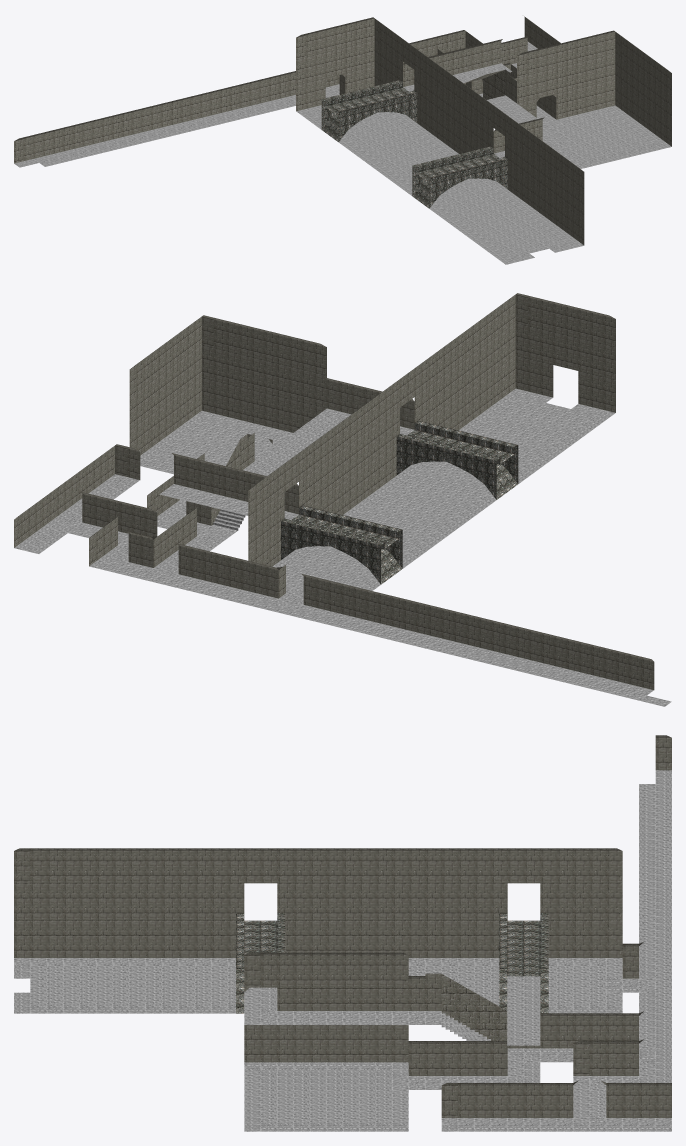
File: dungeon.glb
3 views of the same model, one above another, from view 1: azimuth 30°, elevation 25°; view 2: azimuth 150°, elevation 25°; view 3: azimuth 270°, elevation 25° (orthographic). The views are drawn at different scales.
Visible parts, largest first — view 1: Object.325-col.085, Object.325-col.338, Object.478, Object.269-col, Object.358-col.001, Object.358-col; view 2: Object.325-col.338, Object.325-col.085, Object.478, Object.278-col, Object.278-col.001, Object.367-col, Object.367-col.001, Object.082-col, Object.413-col.001, Object.413-col; view 3: Object.325-col.085, Object.478, Object.325-col.338, Object.262-col, Object.277-col.007, Object.277-col.028, Object.277-col.039, Object.232-col, Object.237-col, Object.240-col, Object.242-col, Object.263-col (+130 smaller).
Boxes of the visible parts, x1,y1,x2,y2 form: Object.325-col.085: (321, 80, 417, 142); Object.325-col.338: (412, 146, 507, 208); Object.478: (464, 69, 505, 99); Object.269-col: (605, 80, 620, 111); Object.358-col.001: (365, 41, 380, 70); Object.358-col: (605, 54, 620, 83); Object.325-col.338: (396, 420, 518, 499); Object.325-col.085: (281, 505, 402, 584); Object.478: (211, 439, 245, 531); Object.278-col: (194, 378, 214, 418); Object.278-col.001: (508, 356, 528, 396); Object.367-col: (194, 345, 214, 382); Object.367-col.001: (508, 323, 528, 360); Object.082-col: (108, 444, 127, 482); Object.413-col.001: (508, 293, 528, 327); Object.413-col: (194, 315, 214, 349); Object.325-col.085: (499, 913, 548, 1013); Object.478: (441, 974, 507, 1040); Object.325-col.338: (236, 913, 285, 1013); Object.262-col: (260, 1025, 277, 1069); Object.277-col.007: (79, 920, 96, 964); Object.277-col.028: (408, 920, 425, 964); Object.277-col.039: (589, 920, 606, 964); Object.232-col: (392, 1025, 408, 1069); Object.237-col: (359, 1025, 375, 1069); Object.240-col: (310, 1025, 326, 1069); Object.242-col: (277, 1025, 293, 1069); Object.263-col: (244, 1025, 260, 1069).
Size of what is drawn, in the model's own units: 104 by 15 by 80.
Materials: 3 (3 with a texture image).
